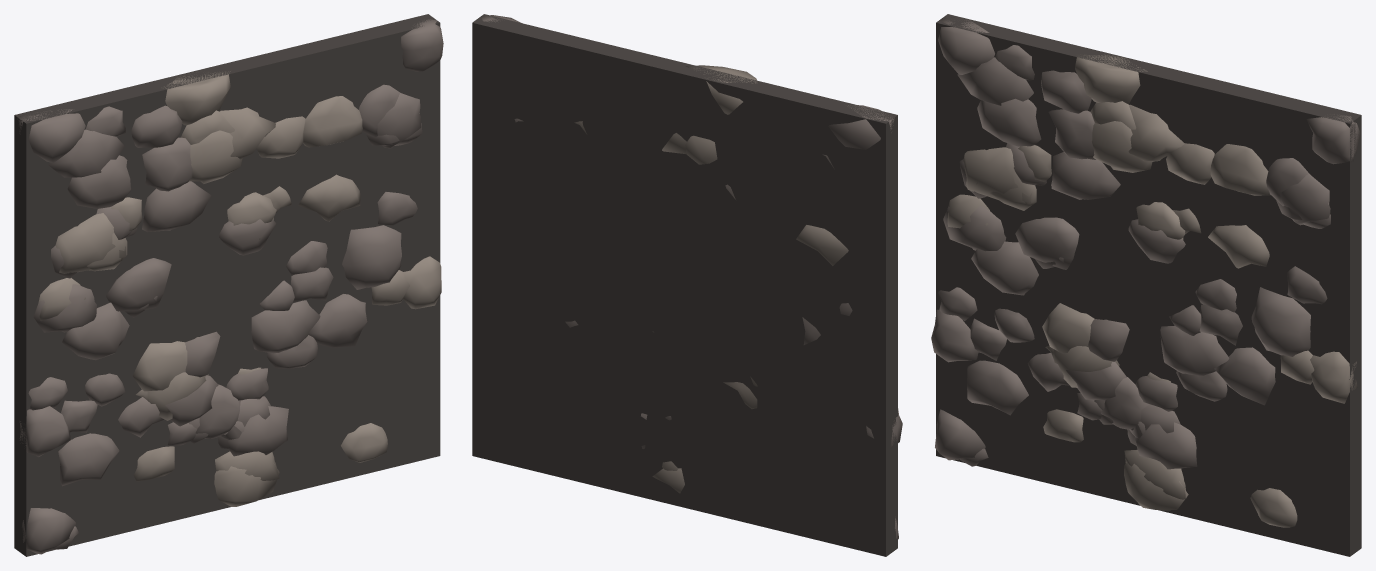
File: bg_rockwall.glb
3 views of the same model, side by side, from view 1: azimuth 30°, elevation 25°; view 2: azimuth 150°, elevation 25°; view 3: azimuth 330°, elevation 25° (orthographic).
Visible parts, largest first — view 1: bg_rockwall; view 2: bg_rockwall; view 3: bg_rockwall.
Part boxes in pixels (x1,y1,x2,y2): bg_rockwall: [14, 14, 443, 556]; bg_rockwall: [472, 14, 902, 556]; bg_rockwall: [931, 14, 1361, 556].
Bounding box in the file's own units: 4 × 4 × 0.3889.
